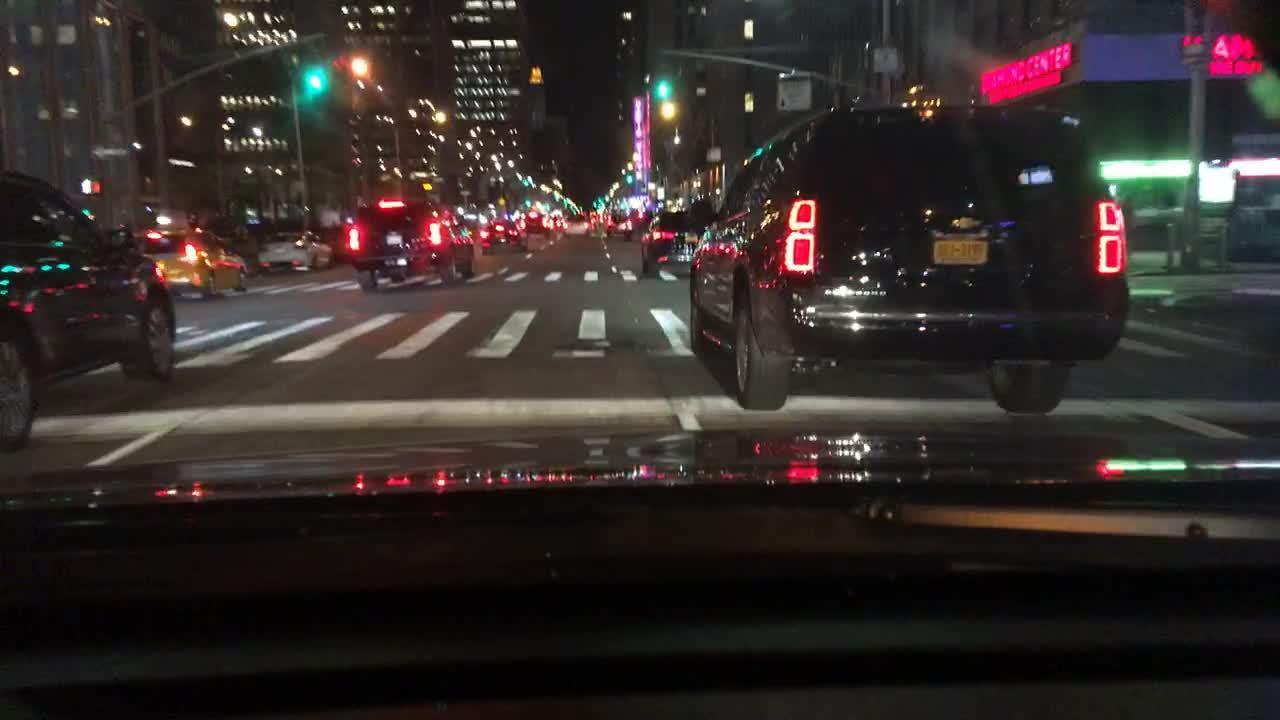chevrolet: (944, 212, 1000, 243)
